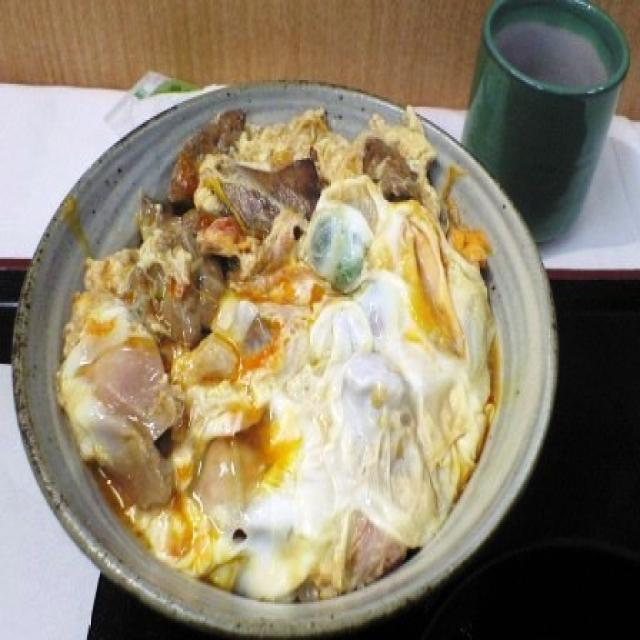米饭主食: (0, 65, 556, 640)
